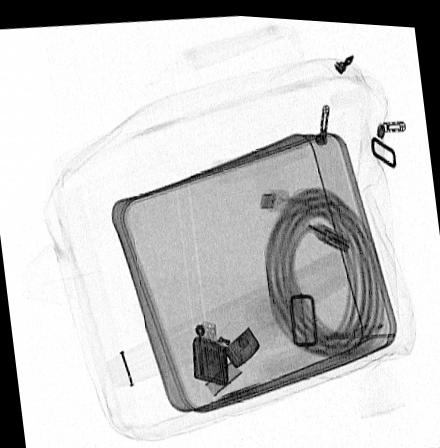Lighter: (190, 317, 260, 384)
